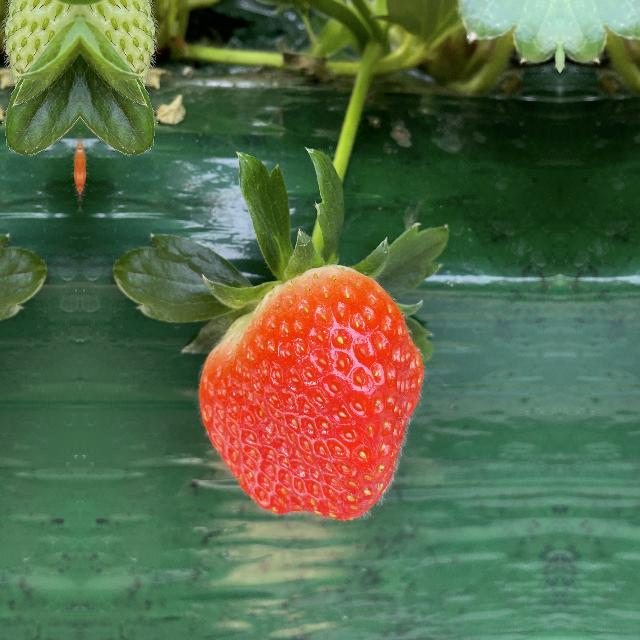Health_100: (191, 262, 425, 524)
